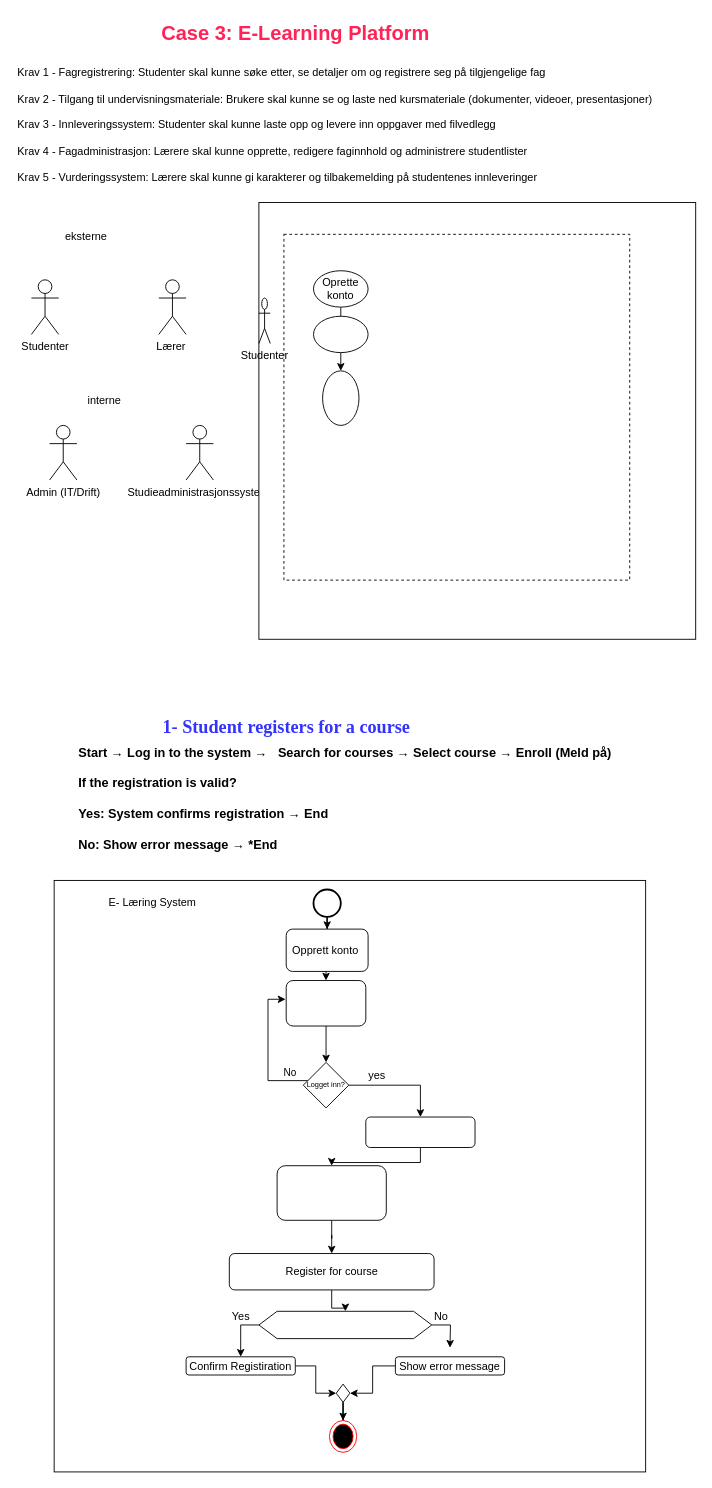
The diagram is 712 pixels wide and 1488 high, and some of its shapes have lost their labels. Each missing label, with the centre of its shape:
"Course registiration valid ?" belongs at [345,1324].
"Log in to the system" belongs at [325,1003].
"Logge inn" belongs at [340,334].
"Select Course" belongs at [331,1192].
"Serch for course" belongs at [420,1132].
"Velge fag" belongs at [340,397].
